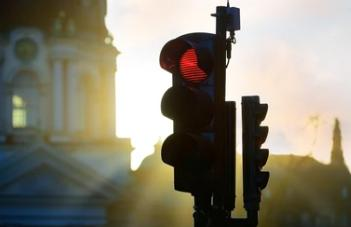red_light: (159, 32, 226, 192)
